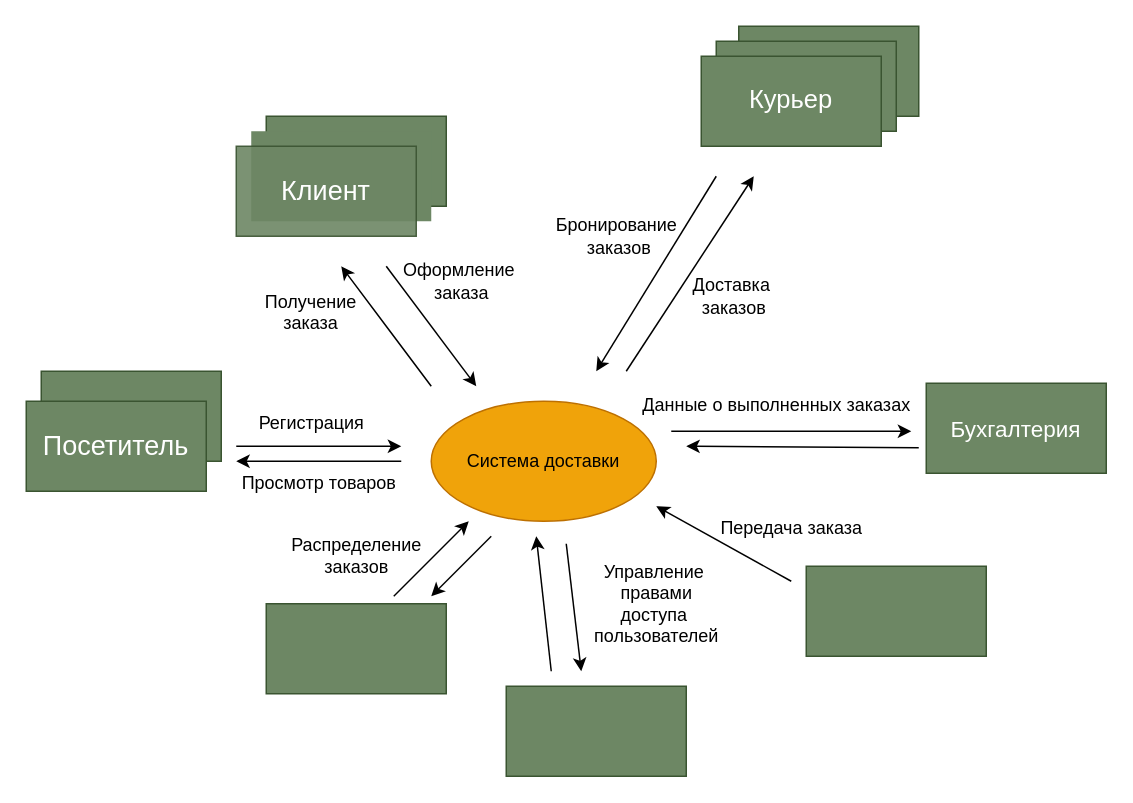
Some shapes in this 1133 by 803 pixel diagram are drawn without their labels. The centre of each missing label's shape, as x and y in pixels:
"Администратор" goes at (595,730).
"Диспетчер" goes at (355,648).
"Поставщик" goes at (895,610).
